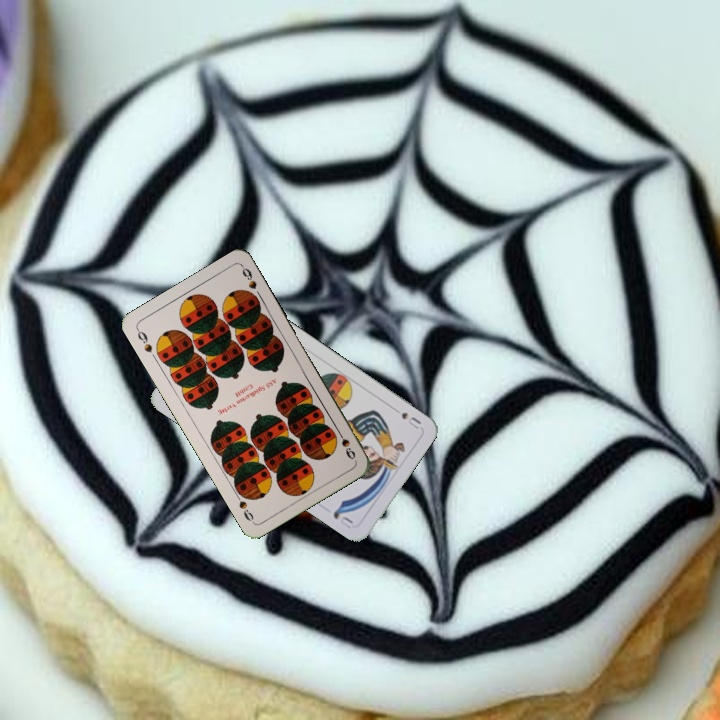S9: (332, 425, 358, 462), (133, 325, 155, 355)
SU: (397, 408, 424, 432)
